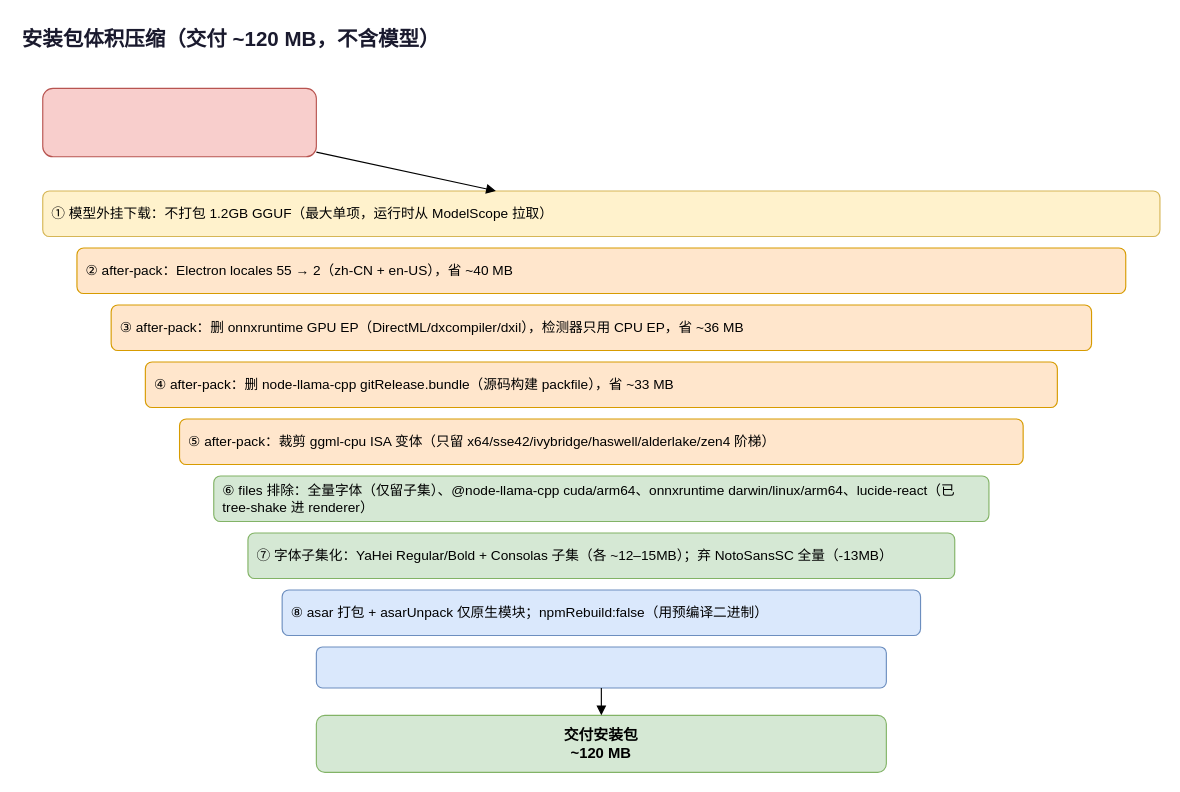
Some shapes in this 1180 by 792 pixel diagram are drawn without their labels. The centre of each missing label's shape, as x and y in pixels:
⑨ NSIS compression: maximum（LZMA）: (600,667)
未优化基线 Electron + 全部原生依赖 ~300+ MB: (179,122)
